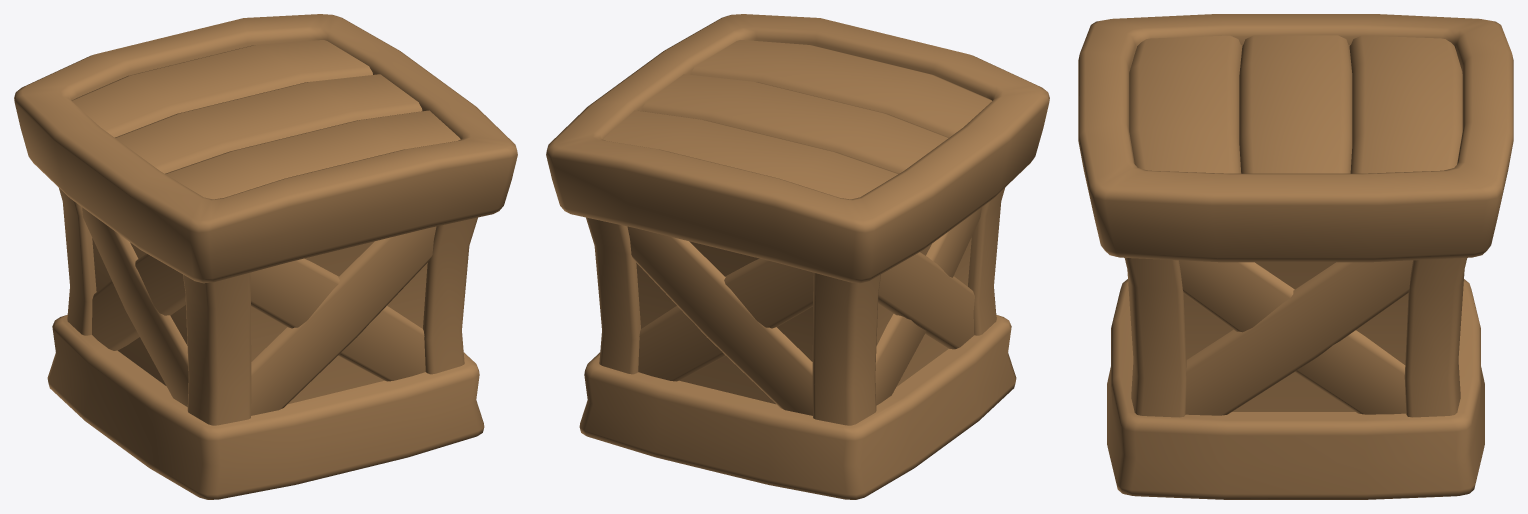
The model's file is props_crate.fbx.
3 views of the same model, side by side, from view 1: azimuth 30°, elevation 25°; view 2: azimuth 150°, elevation 25°; view 3: azimuth 270°, elevation 25° (orthographic). The views are drawn at different scales.
Parts seen in each view (by area): view 1: Cube.015; view 2: Cube.015; view 3: Cube.015.
Part boxes in pixels (<box>): Cube.015: <box>14,14,517,499</box>; Cube.015: <box>546,14,1049,499</box>; Cube.015: <box>1078,14,1513,499</box>.
Size of the model in its own units: 1.61 by 1.6 by 1.36.
